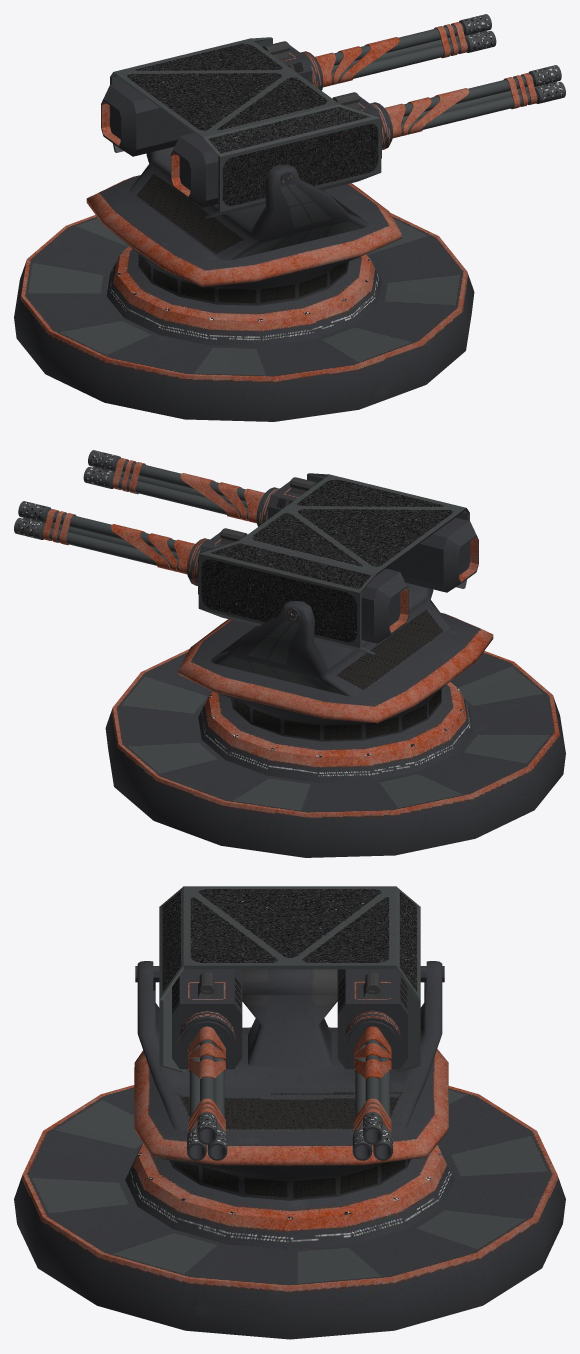
The model's file is MachineGun_3.fbx.
The picture shows the model from 3 angles, top to bottom: view 1: azimuth 30°, elevation 25°; view 2: azimuth 150°, elevation 25°; view 3: azimuth 270°, elevation 25°; orthographic projection. The views are drawn at different scales.
Parts seen in each view (by area): view 1: Platforrm_lp, Turret_lp, Axsis_lp; view 2: Platforrm_lp, Turret_lp, Axsis_lp; view 3: Platforrm_lp, Turret_lp, Axsis_lp.
Boxes of the visible parts, x1=… form: Platforrm_lp: x1=14, y1=212, x2=474, y2=421; Turret_lp: x1=101, y1=14, x2=565, y2=218; Axsis_lp: x1=86, y1=128, x2=401, y2=305; Platforrm_lp: x1=105, y1=648, x2=565, y2=857; Turret_lp: x1=14, y1=450, x2=478, y2=654; Axsis_lp: x1=178, y1=564, x2=493, y2=741; Platforrm_lp: x1=14, y1=1085, x2=565, y2=1339; Turret_lp: x1=135, y1=886, x2=444, y2=1160; Axsis_lp: x1=134, y1=961, x2=448, y2=1200.
Size of the model in its own units: 200 by 115 by 239.
Materials: 1 (1 with a texture image).
